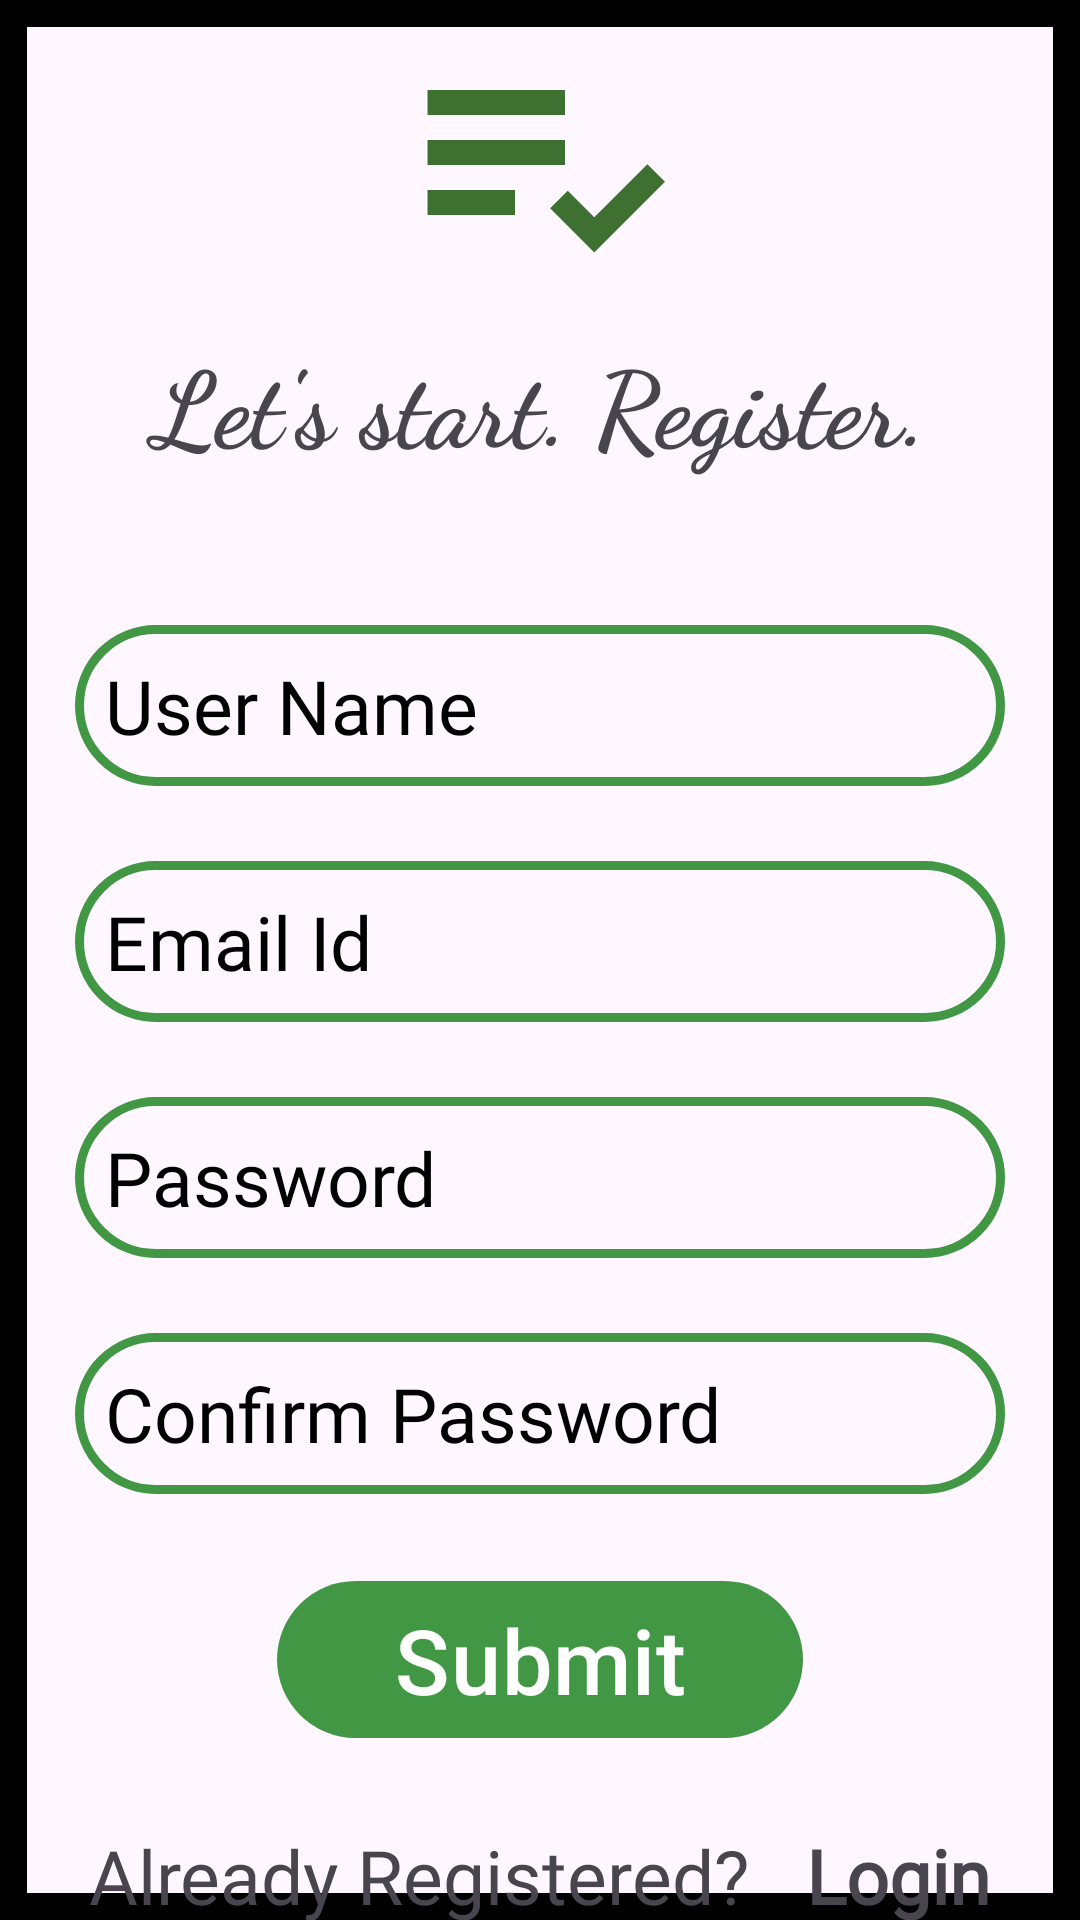

Screen size 1080px x 1920px. Icon name, then its box in pixels as {"x1": x1, "y1": y1, "x2": x2, "y2": y2}:
playlist add check: {"x1": 427, "y1": 90, "x2": 665, "y2": 253}
